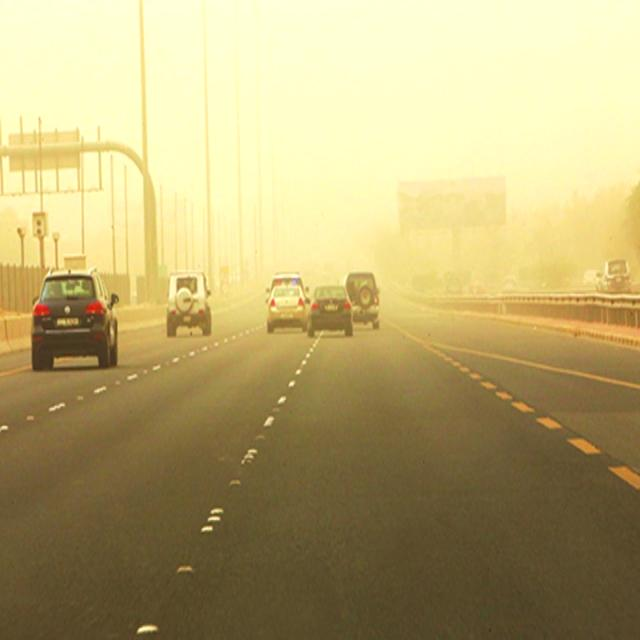Car: (29, 268, 121, 376), (165, 272, 215, 344), (306, 285, 353, 333), (343, 272, 383, 327), (265, 286, 306, 330)
